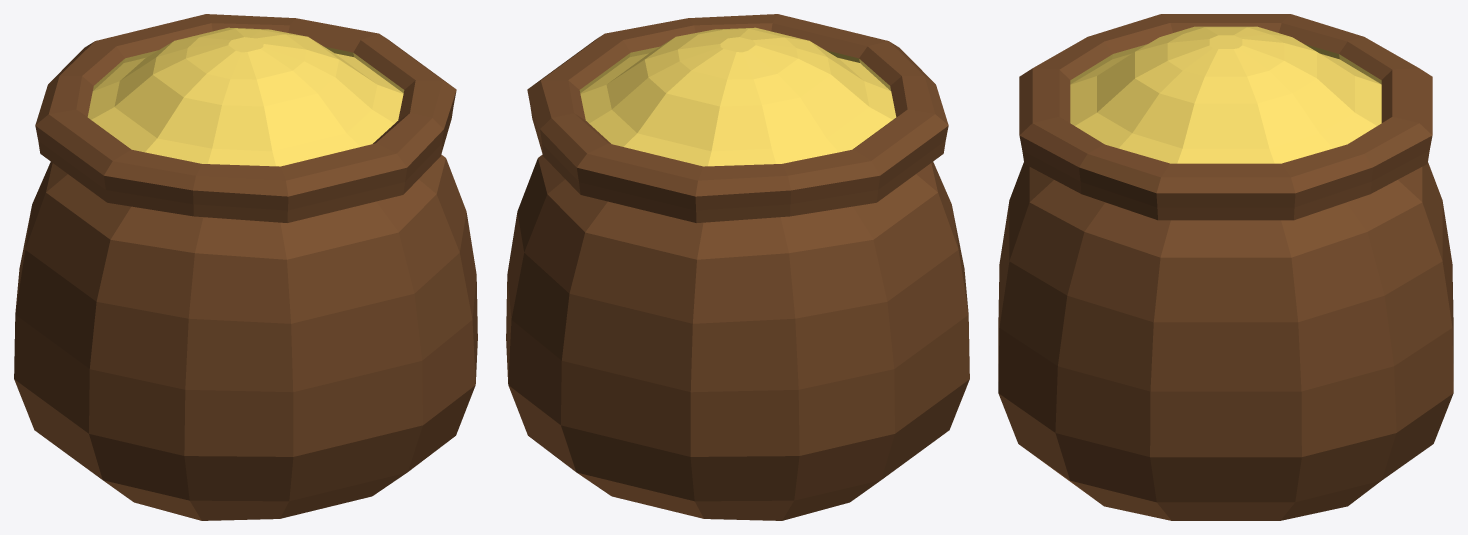
The model's file is seeds.glb.
3 renders of one model, left to right at view 1: azimuth 30°, elevation 25°; view 2: azimuth 150°, elevation 25°; view 3: azimuth 270°, elevation 25°, orthographic.
Visible parts, largest first — view 1: seeds; view 2: seeds; view 3: seeds.
Part boxes in pixels (bbox=[...]): seeds: bbox=[14, 14, 477, 520]; seeds: bbox=[506, 14, 969, 520]; seeds: bbox=[998, 14, 1453, 520].
Bounding box in the file's own units: 4.29 × 4.37 × 4.29.
Materials: 1 (1 with a texture image).
